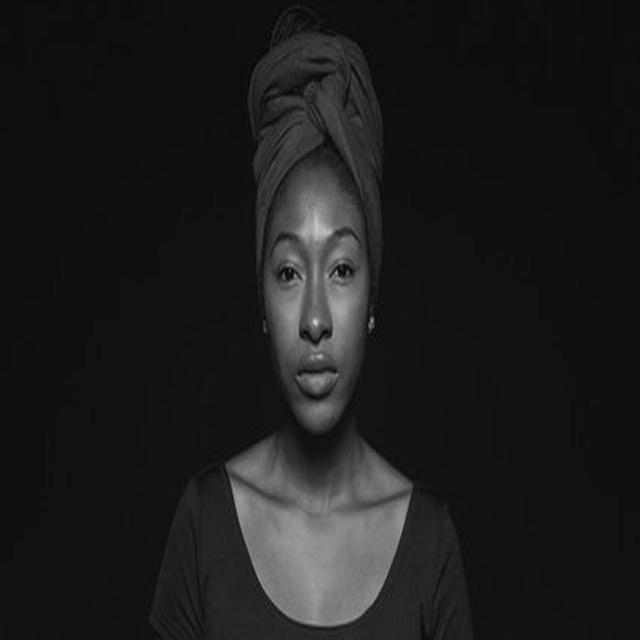Neutral: (263, 165, 370, 433)
